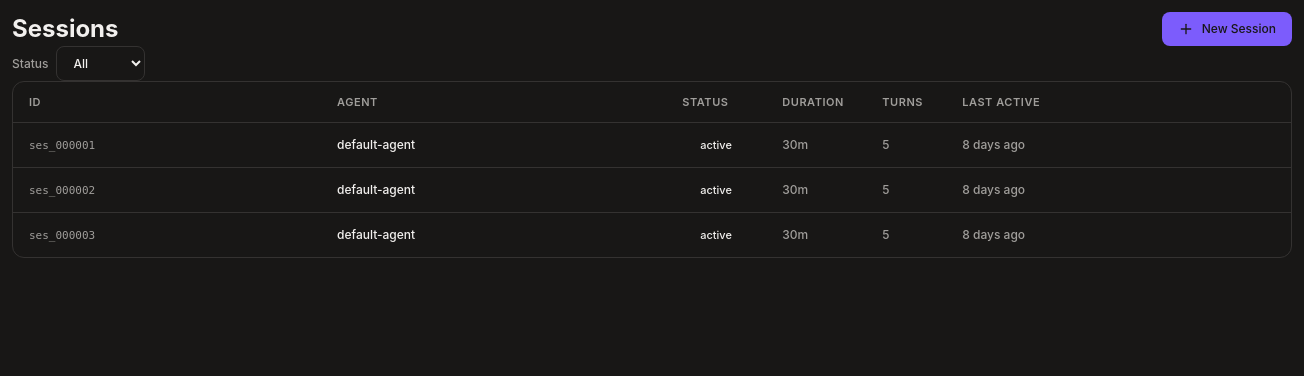
Scenario: SessionManagerPage › filters sessions by status
Expected: the text "ses_000001" is shown, [29,139,95,152]
# Change status filter to "done" — MSW handler filters by status
Select "Done" in the dropdown labelled "Status" at coordinates (101, 64), box [56,46,146,81]
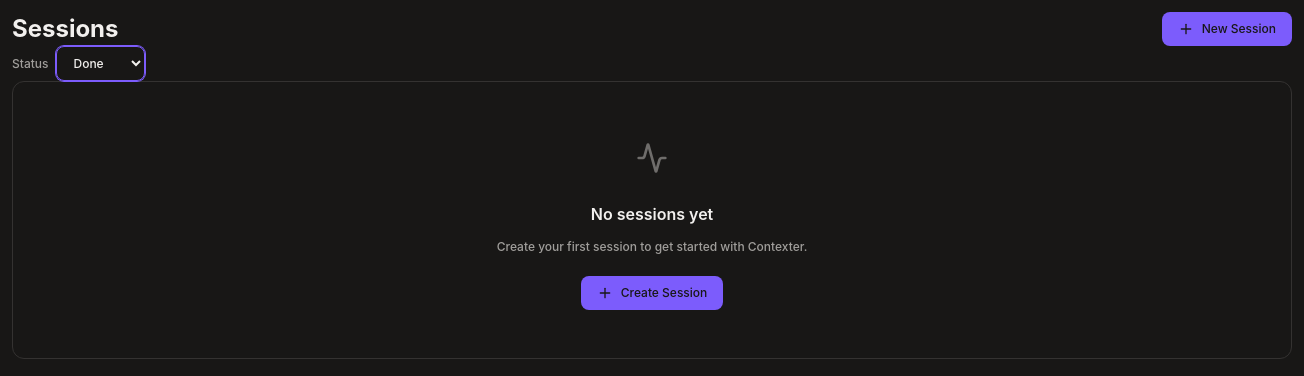
Result: the heading "No sessions yet" is shown at [591,202,713,226]
